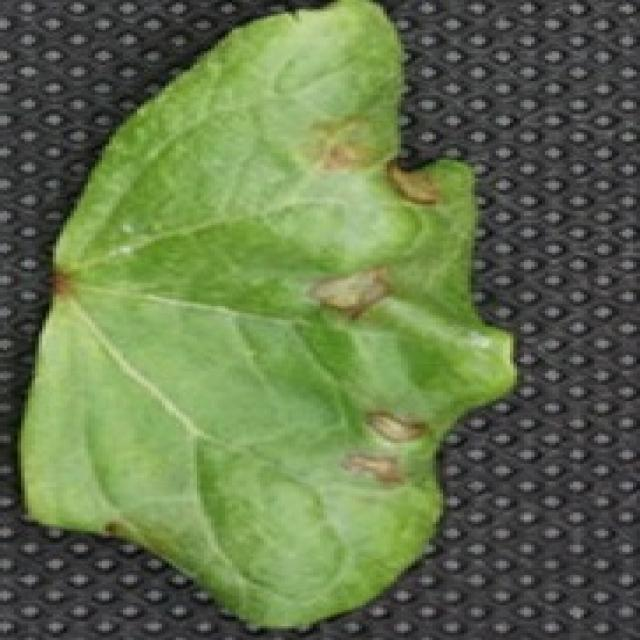Fusarium Wilt: (291, 261, 418, 334), (342, 402, 433, 493)
